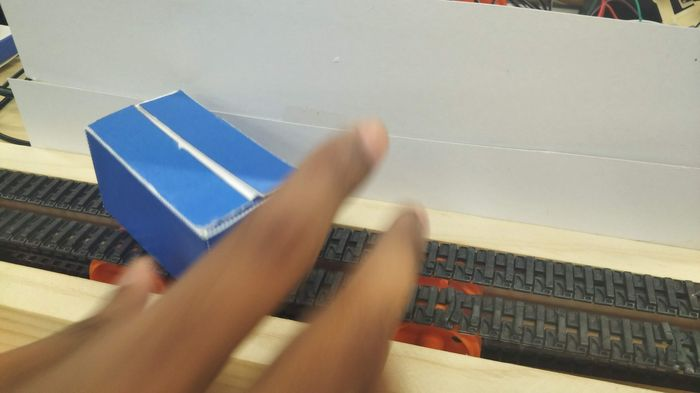box3: (86, 88, 326, 303)
